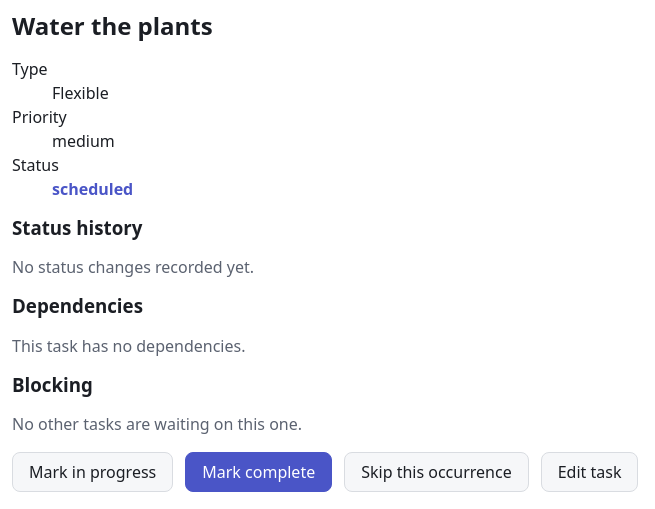
Scenario: TaskDetailPage › marks complete and updates the button set in place
The width and height of the screenshot is (655, 509).
Step 1. Click the button "Mark complete" → (259, 472), box [185,452,332,492]
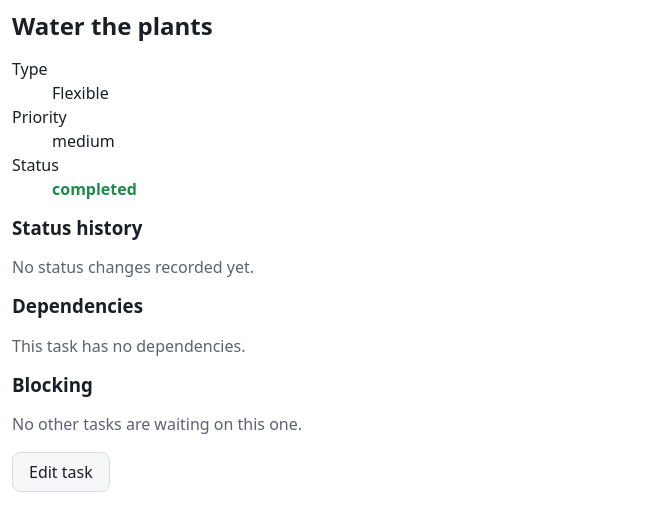
Result: the button "Mark complete" is gone
